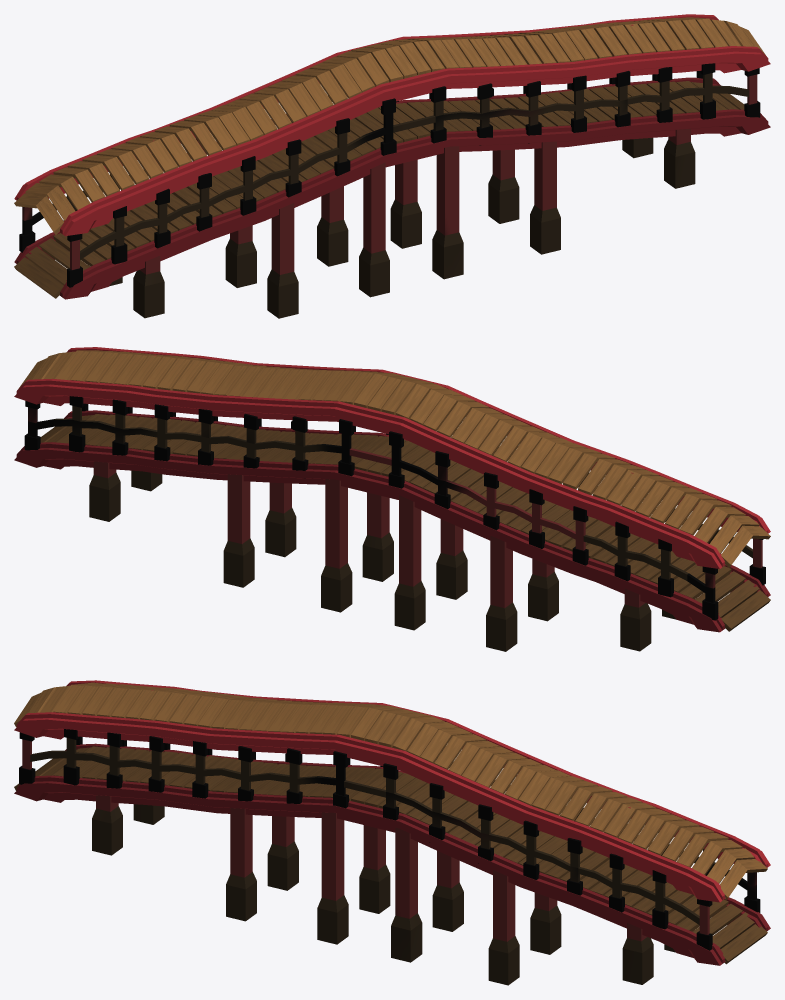
Rendered from pontecerejeira.fbx.
3 renders of one model, top to bottom at view 1: azimuth 30°, elevation 25°; view 2: azimuth 150°, elevation 25°; view 3: azimuth 330°, elevation 25°, orthographic.
Visible parts, largest first — view 1: suporte; view 2: suporte; view 3: suporte.
Part boxes in pixels (x1,y1,x2,y2): suporte: [14, 14, 770, 318]; suporte: [14, 347, 770, 651]; suporte: [14, 680, 770, 985].
Size of the model in its own units: 2718 by 801 by 350.
5 materials, 5 textured.
